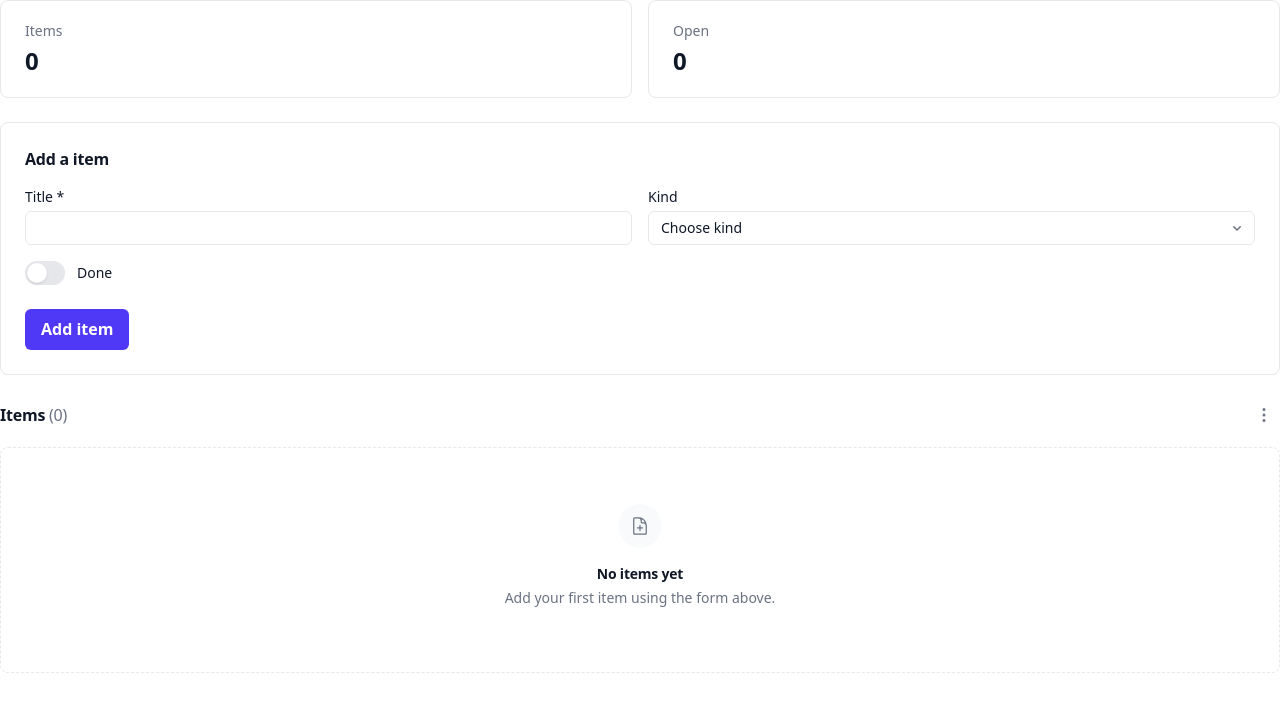
collection view › asks before removing and only removes once confirmed
Type "Doomed" into the field labelled "Title *".
click(328, 228); type("Doomed")  # box x1=25 y1=211 x2=632 y2=245
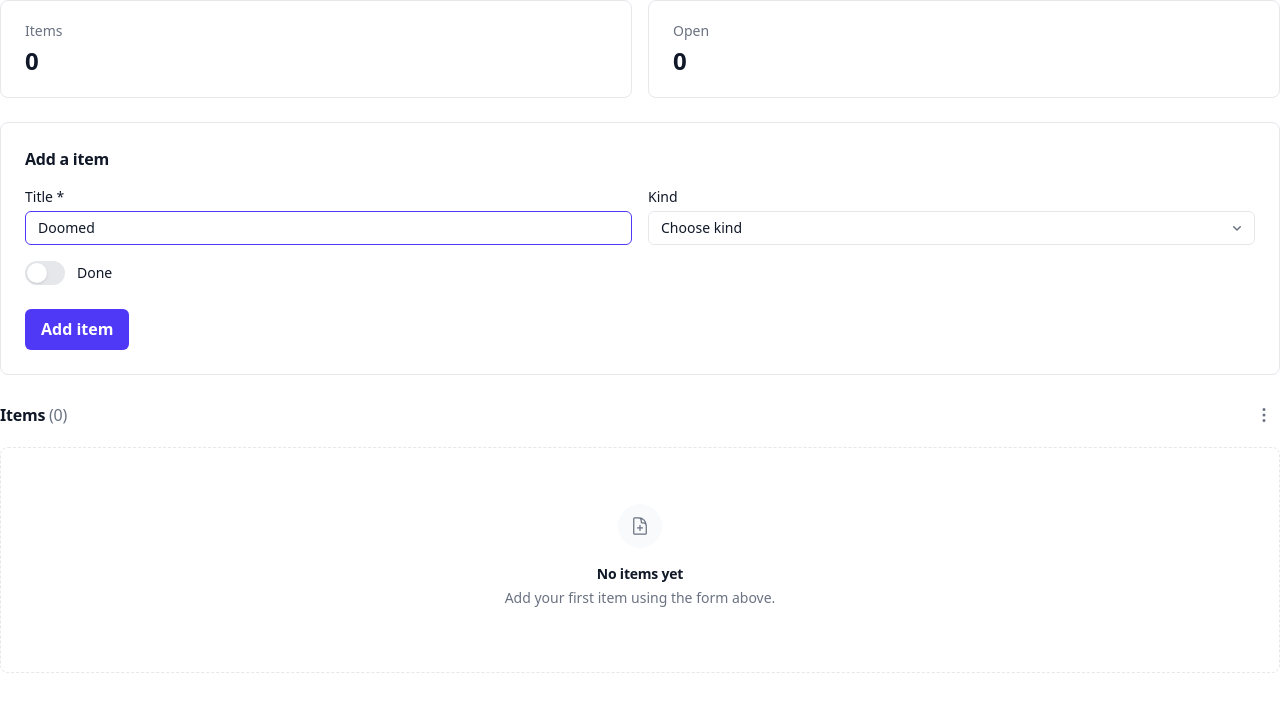
Click the button "Add item".
click(77, 329)  # box x1=25 y1=309 x2=130 y2=350
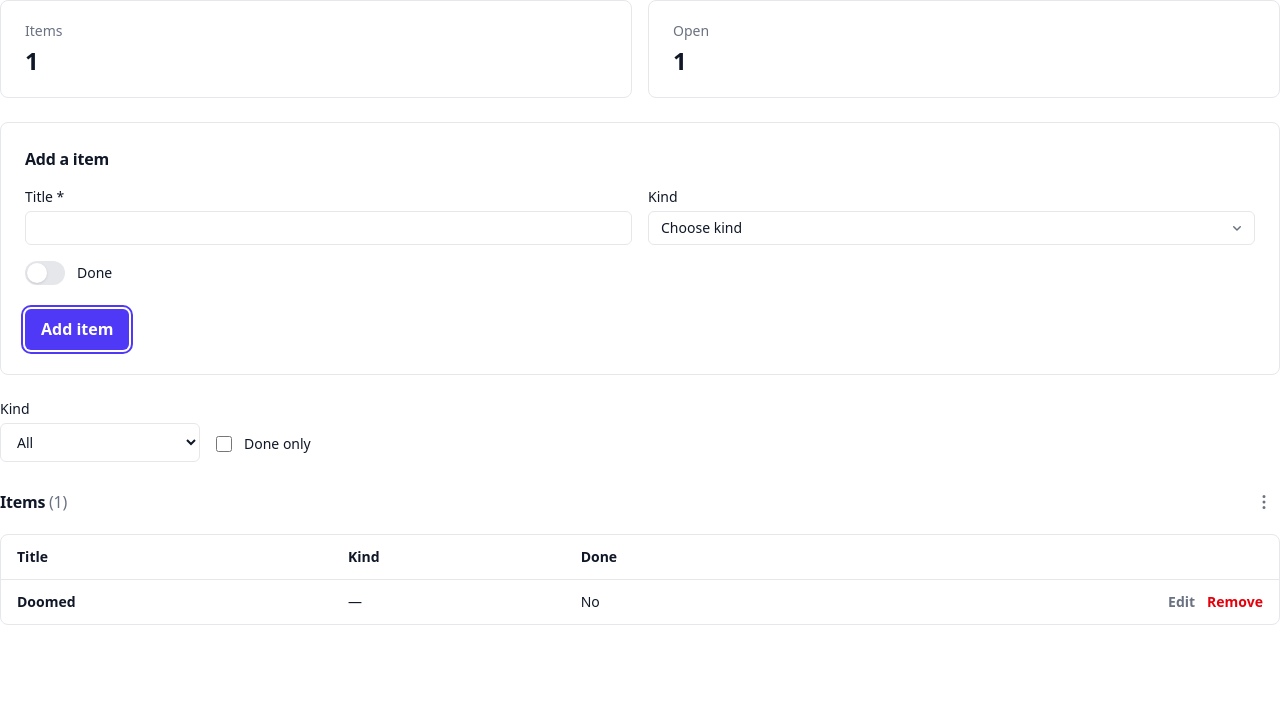
Click the button with aria-label "Remove Doomed".
click(1235, 602)  # box x1=1207 y1=592 x2=1263 y2=612
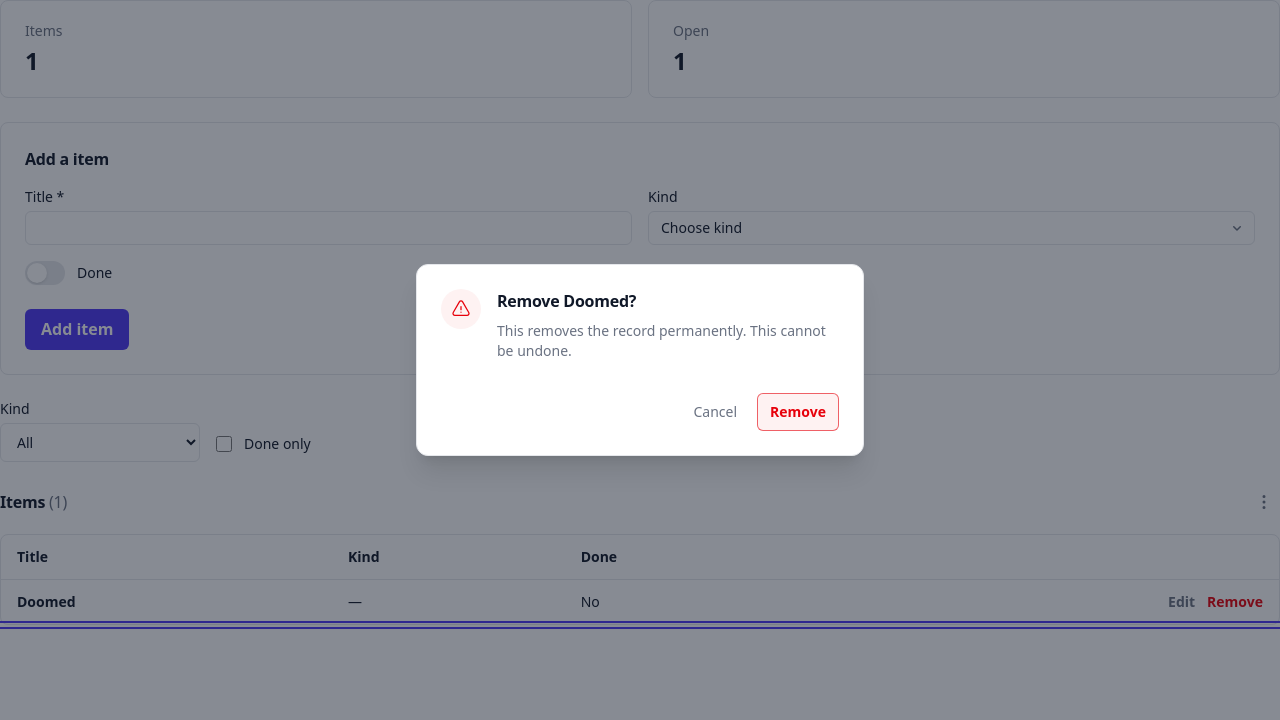
Result: the text "Doomed" is shown at x1=17 y1=592 x2=76 y2=611
Click the button with aria-label "Confirm removing Doomed".
click(798, 412)  # box x1=757 y1=393 x2=839 y2=431
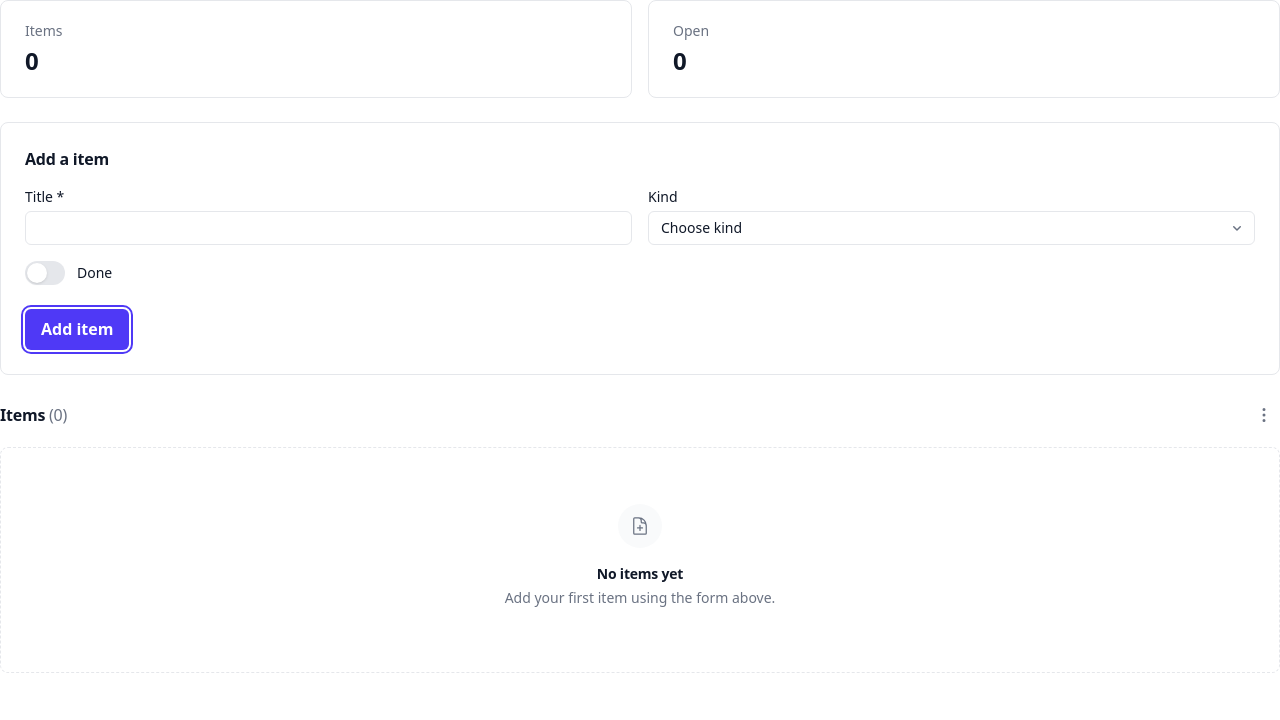
Result: the text "Doomed" is gone
